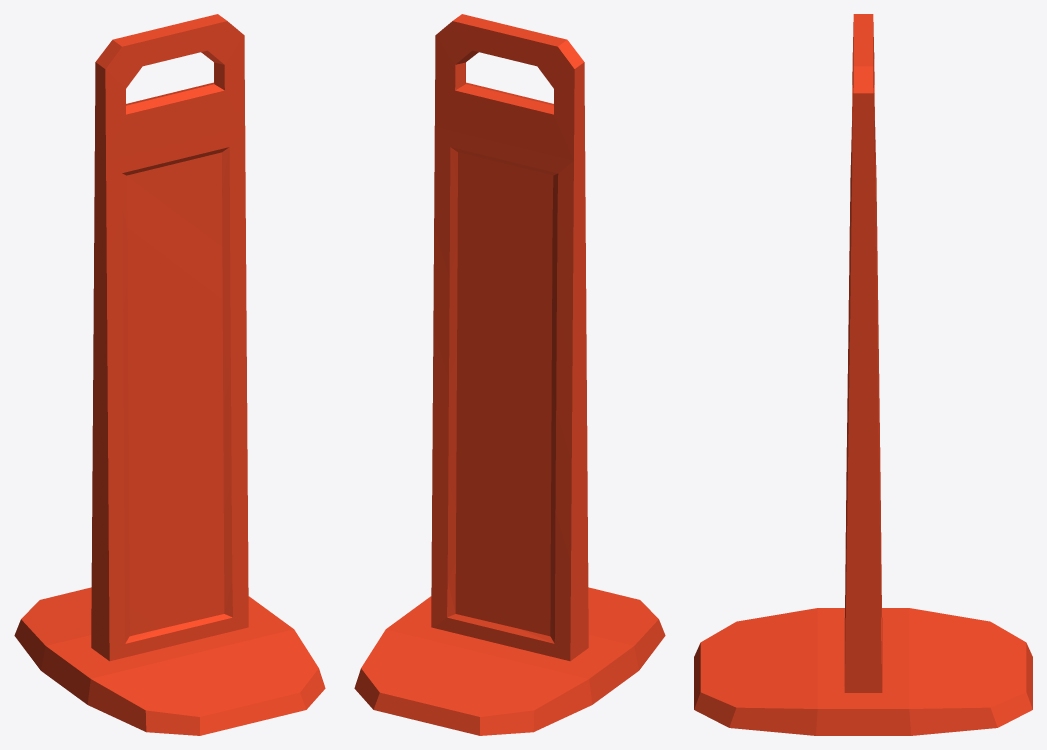
The model's file is SM_Barrier_E_City.fbx.
3 renders of one model, left to right at view 1: azimuth 30°, elevation 25°; view 2: azimuth 150°, elevation 25°; view 3: azimuth 270°, elevation 25°, orthographic.
Visible parts, largest first — view 1: SM_Barrier_E_City; view 2: SM_Barrier_E_City; view 3: SM_Barrier_E_City.
Part boxes in pixels (bbox=[...]): SM_Barrier_E_City: bbox=[14, 14, 325, 735]; SM_Barrier_E_City: bbox=[354, 14, 665, 735]; SM_Barrier_E_City: bbox=[694, 14, 1032, 735].
Bounding box in the file's own units: 0.3419 × 0.9759 × 0.4659.
